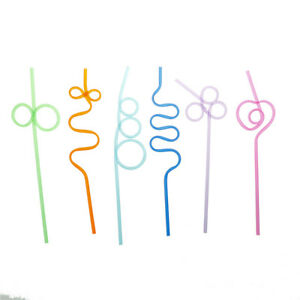Drinking Straw: (7, 65, 62, 247), (234, 68, 277, 237), (111, 65, 148, 246)
